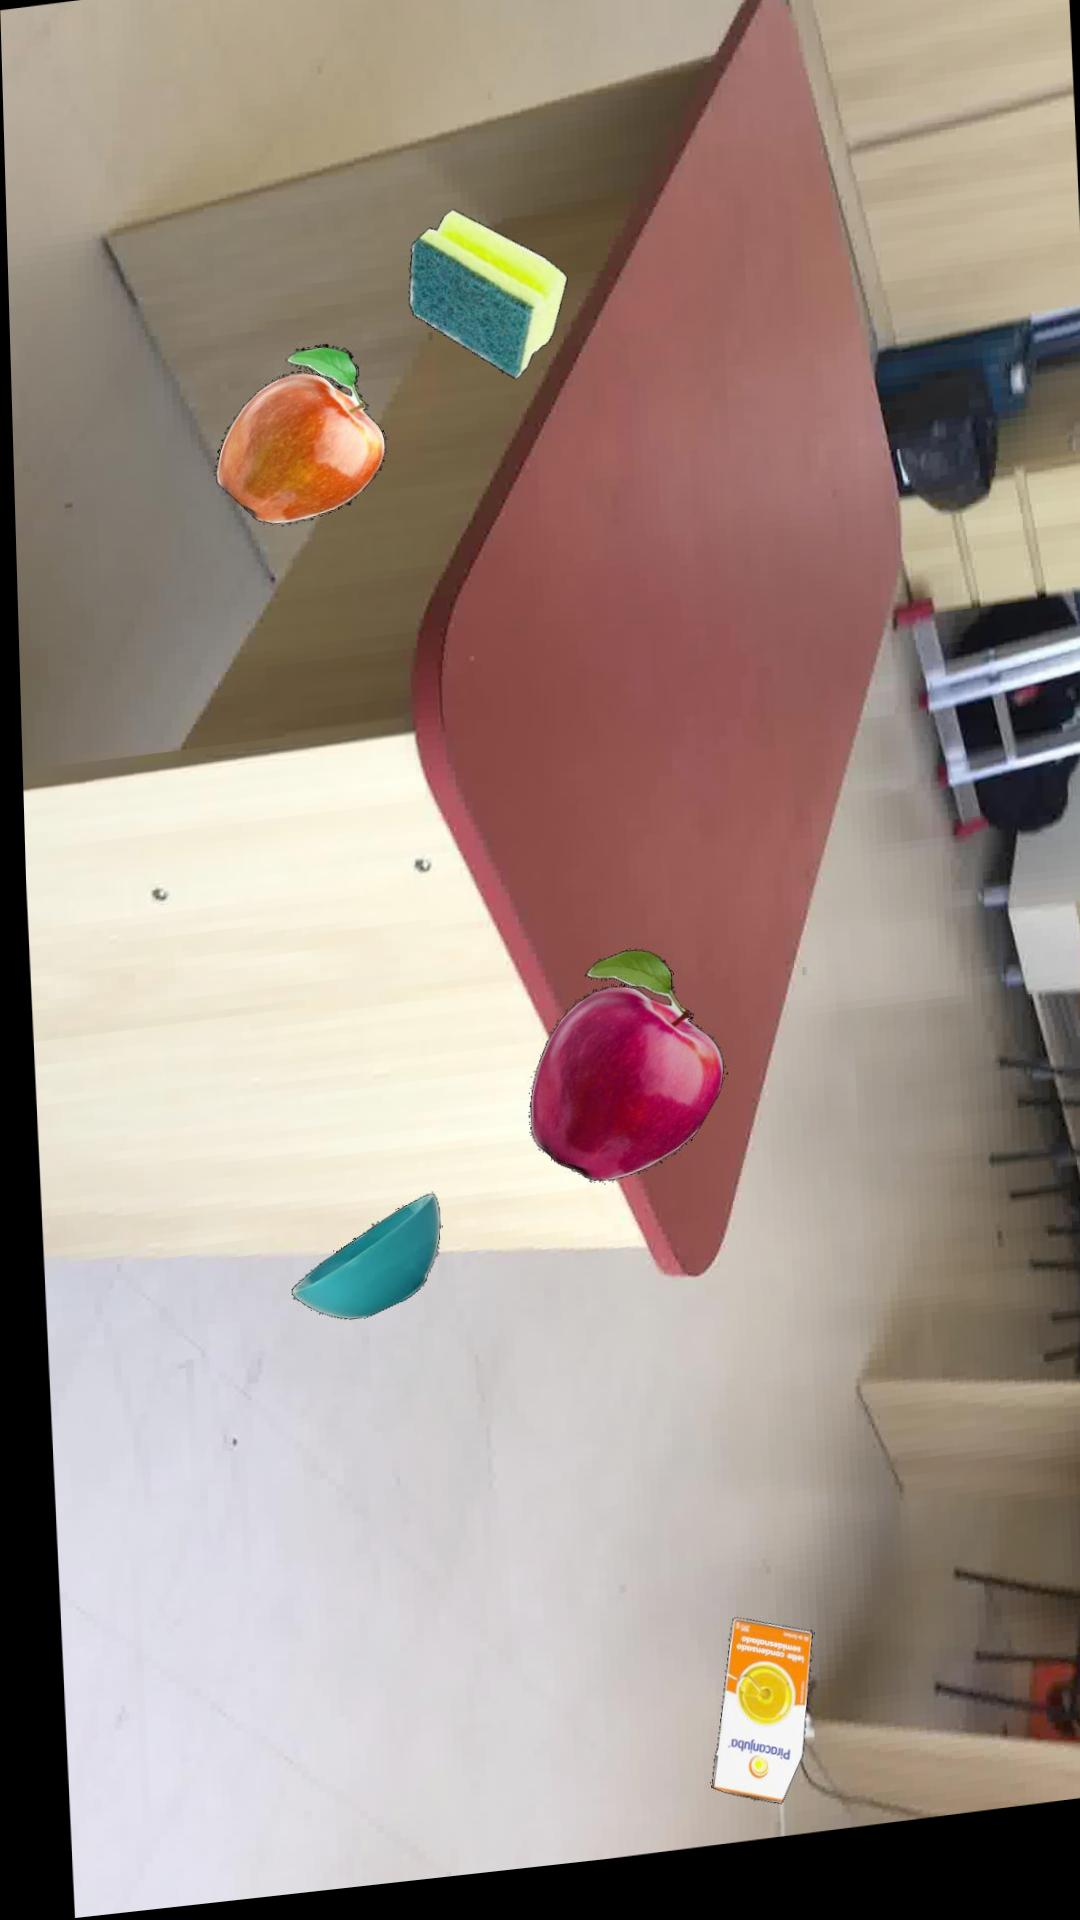apple: (520, 964, 713, 1196), (210, 352, 380, 531)
bowl: (281, 1204, 429, 1328)
sponge: (404, 220, 563, 393)
